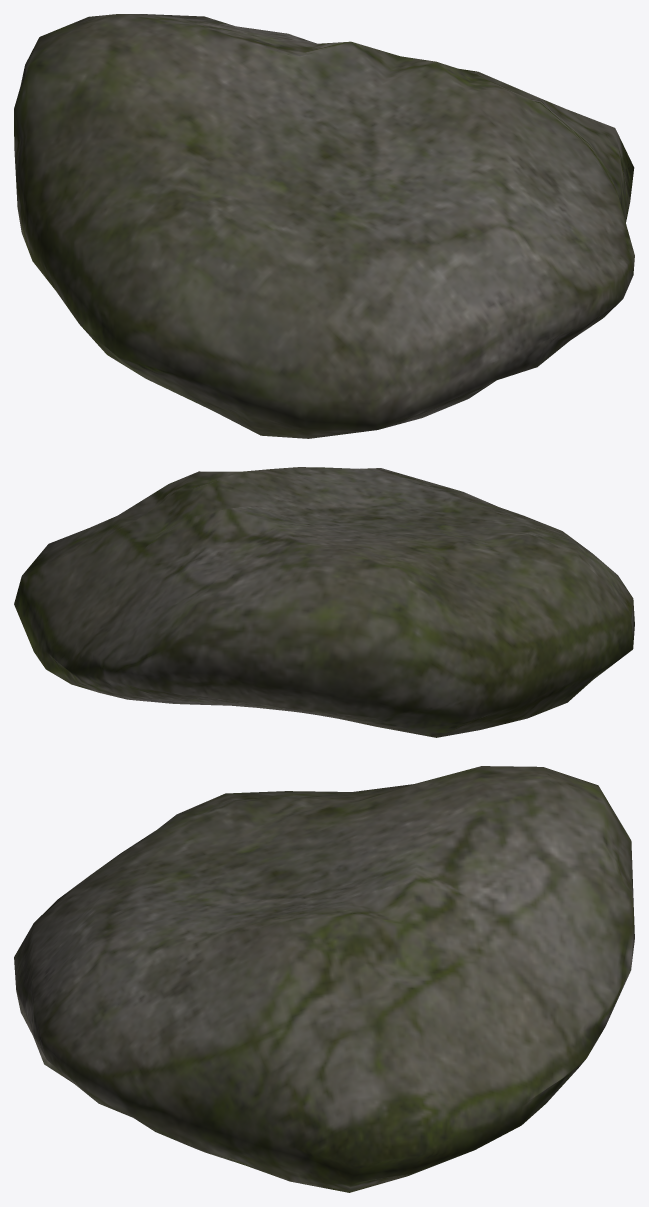
Rendered from rock4.glb.
3 views of the same model, one above another, from view 1: azimuth 30°, elevation 25°; view 2: azimuth 150°, elevation 25°; view 3: azimuth 270°, elevation 25° (orthographic). The views are drawn at different scales.
Visible parts, largest first — view 1: rock4_low_rocks_texture_0; view 2: rock4_low_rocks_texture_0; view 3: rock4_low_rocks_texture_0.
Part boxes in pixels (x1=…): rock4_low_rocks_texture_0: x1=14, y1=14, x2=634, y2=438; rock4_low_rocks_texture_0: x1=14, y1=467, x2=634, y2=737; rock4_low_rocks_texture_0: x1=14, y1=766, x2=634, y2=1192.
Bounding box in the file's own units: 1.01 × 0.4402 × 0.9287.
1 material, 1 textured.
